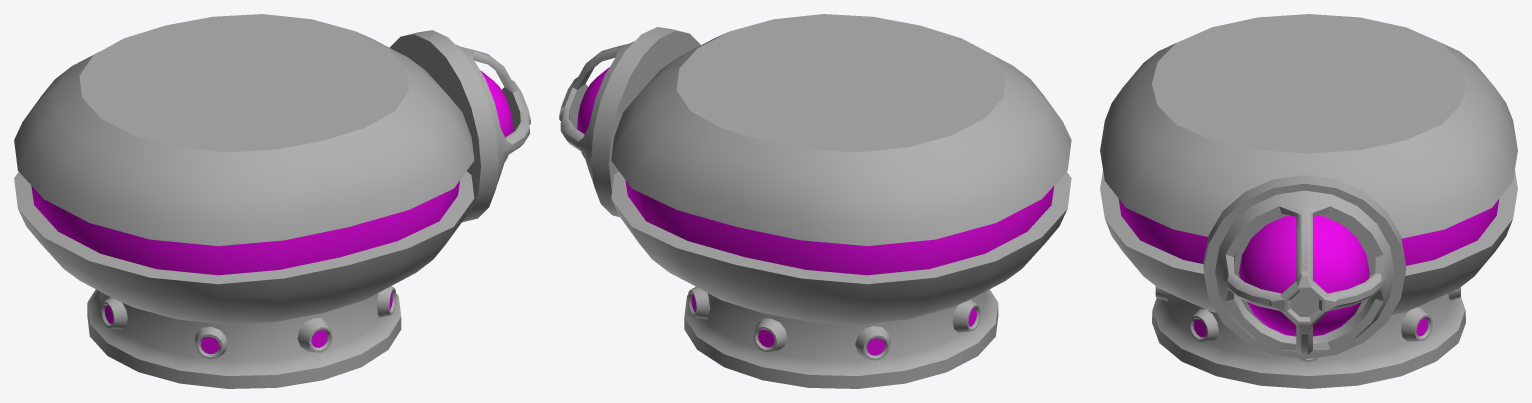
The model's file is SM_Spawner02.fbx.
3 views of the same model, side by side, from view 1: azimuth 30°, elevation 25°; view 2: azimuth 150°, elevation 25°; view 3: azimuth 270°, elevation 25° (orthographic).
Parts seen in each view (by area): view 1: polySurface23; view 2: polySurface23; view 3: polySurface23.
Boxes of the visible parts, <box> form: polySurface23: <box>14,14,530,388</box>; polySurface23: <box>559,14,1071,388</box>; polySurface23: <box>1100,14,1517,388</box>.
Bounding box in the file's own units: 9.25 × 4.48 × 7.1.
